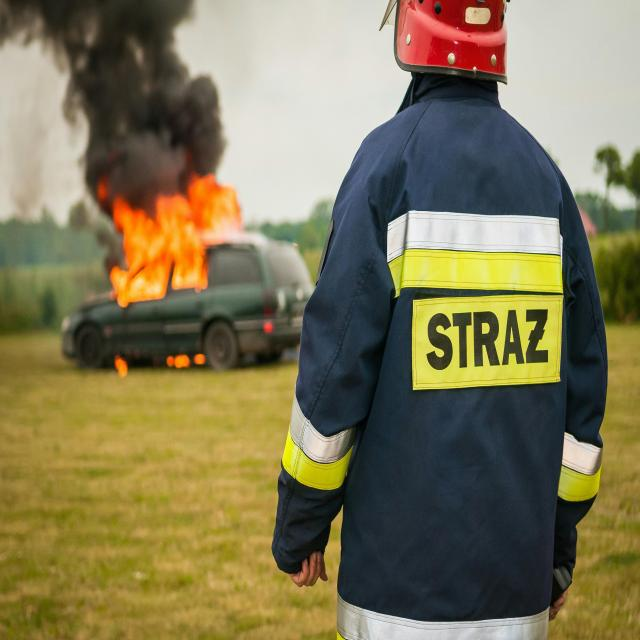fire: (90, 170, 241, 303)
